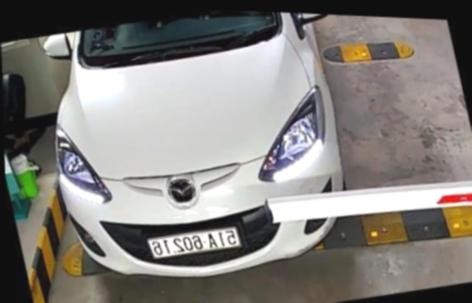License_Plate: (143, 213, 244, 270)
